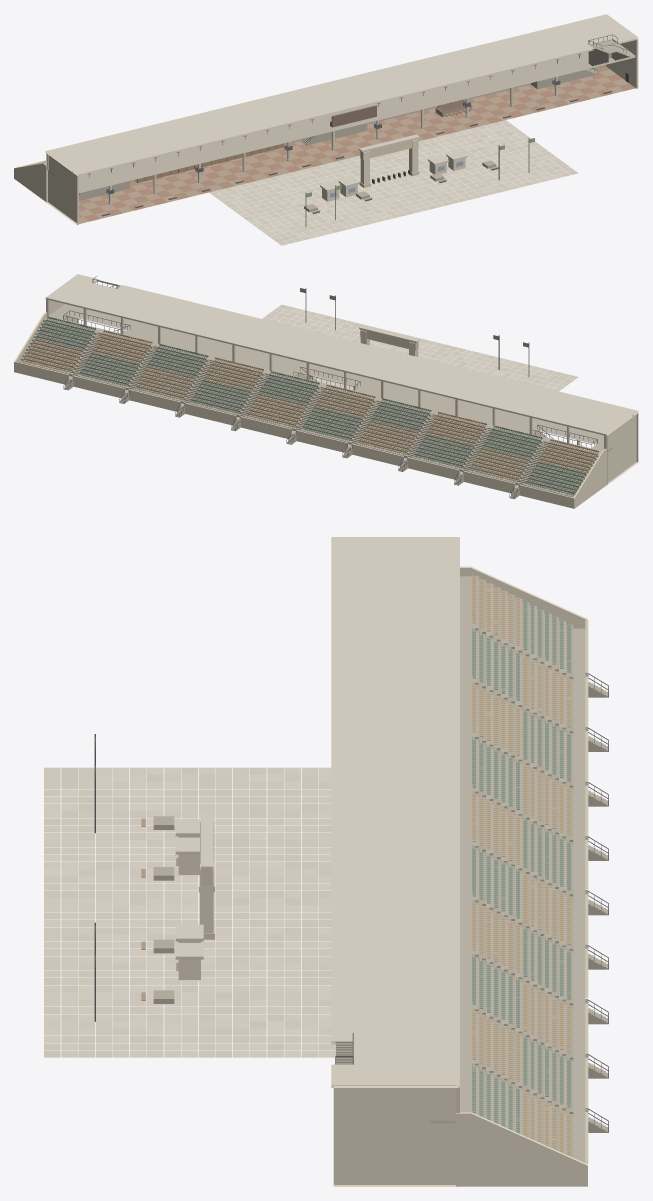
The model's file is SM_BM_BHip_Stand.glb.
3 renders of one model, top to bottom at view 1: azimuth 30°, elevation 25°; view 2: azimuth 150°, elevation 25°; view 3: azimuth 270°, elevation 25°, orthographic. The views are drawn at different scales.
Visible parts, largest first — view 1: SM_BM_BHip_Stand; view 2: SM_BM_BHip_Stand; view 3: SM_BM_BHip_Stand.
Boxes of the visible parts, x1=… form: SM_BM_BHip_Stand: x1=14, y1=14, x2=638, y2=245; SM_BM_BHip_Stand: x1=14, y1=274, x2=638, y2=508; SM_BM_BHip_Stand: x1=44, y1=537, x2=608, y2=1186.
Bounding box in the file's own units: 151 × 14.21 × 65.79.
